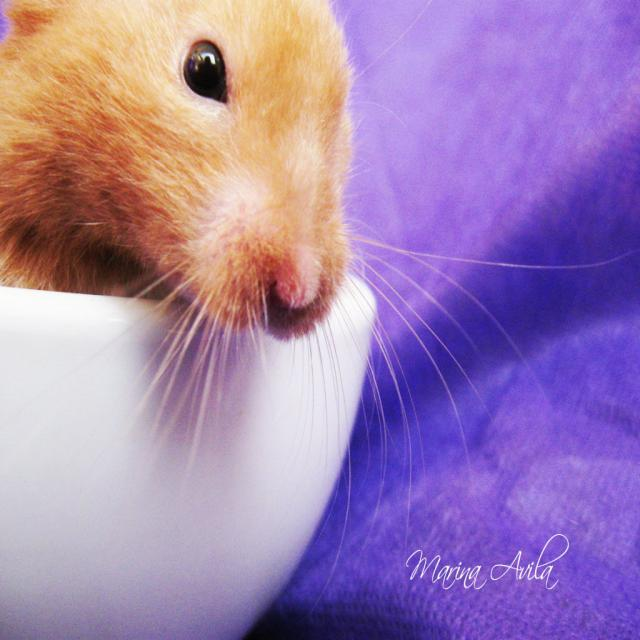rat: (0, 0, 359, 340)
